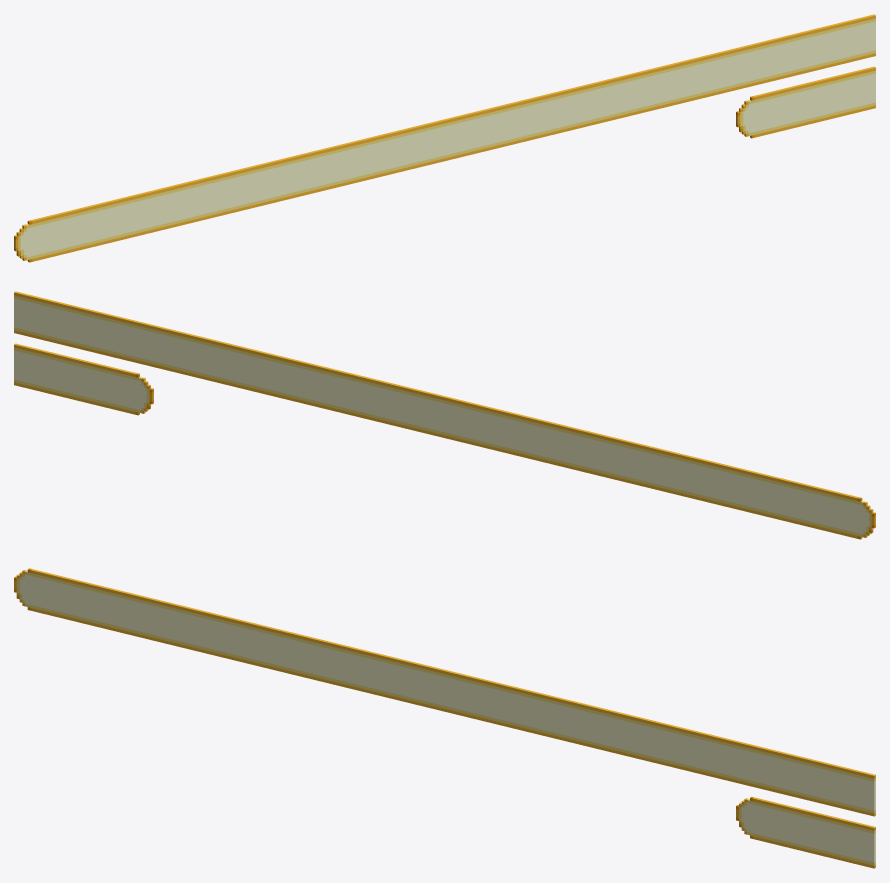
File: Fight_009_2_16_fx.obj
3 renders of one model, top to bottom at view 1: azimuth 30°, elevation 25°; view 2: azimuth 150°, elevation 25°; view 3: azimuth 330°, elevation 25°, orthographic.
Size of the model in its own units: 31.1 by 3.2 by 0.1.
Materials: 1 (1 with a texture image).
